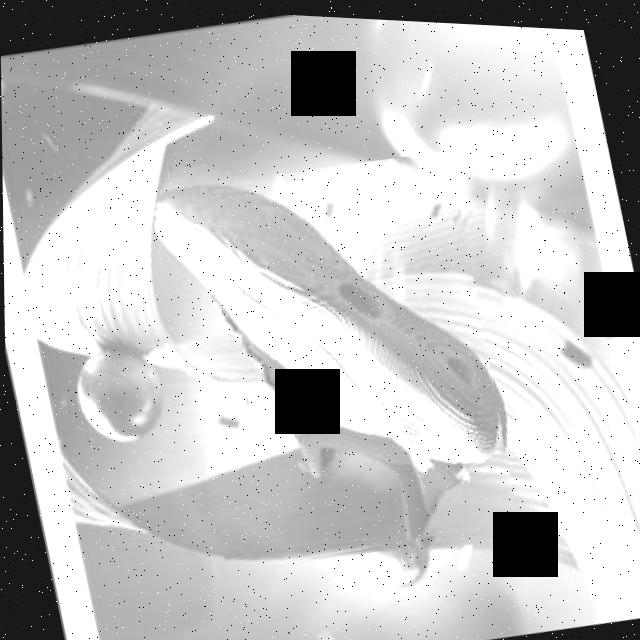shoe: (147, 133, 529, 584)
